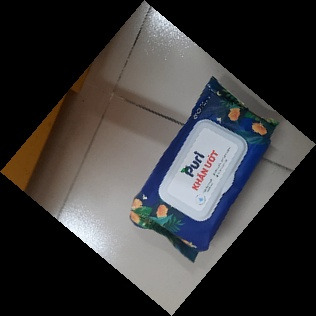Puri Xanh: (126, 72, 279, 265)
